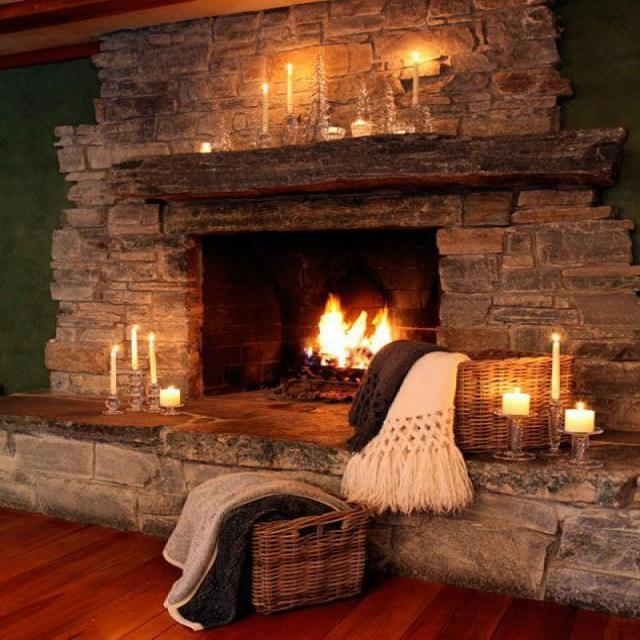Fire: (156, 30, 466, 176), (263, 286, 471, 376), (486, 317, 588, 442)
